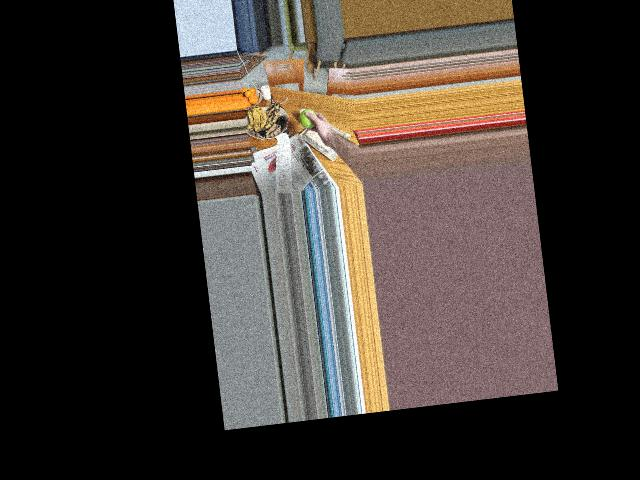apple: (299, 107, 320, 131)
